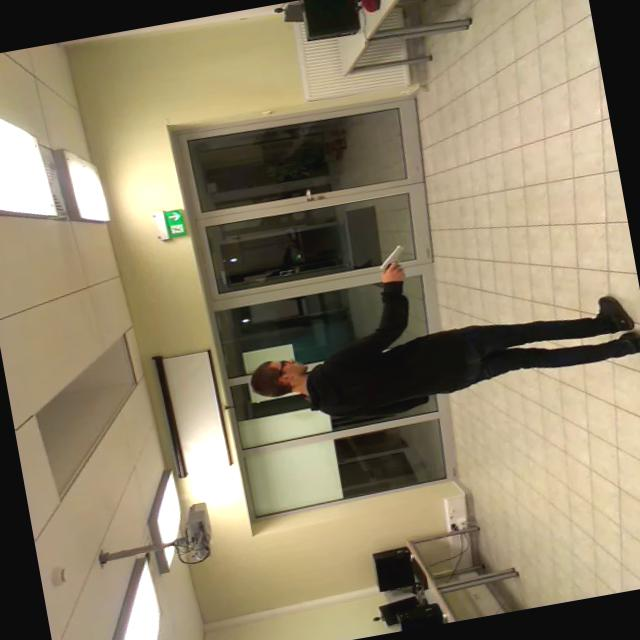handgun: (372, 234, 422, 276)
